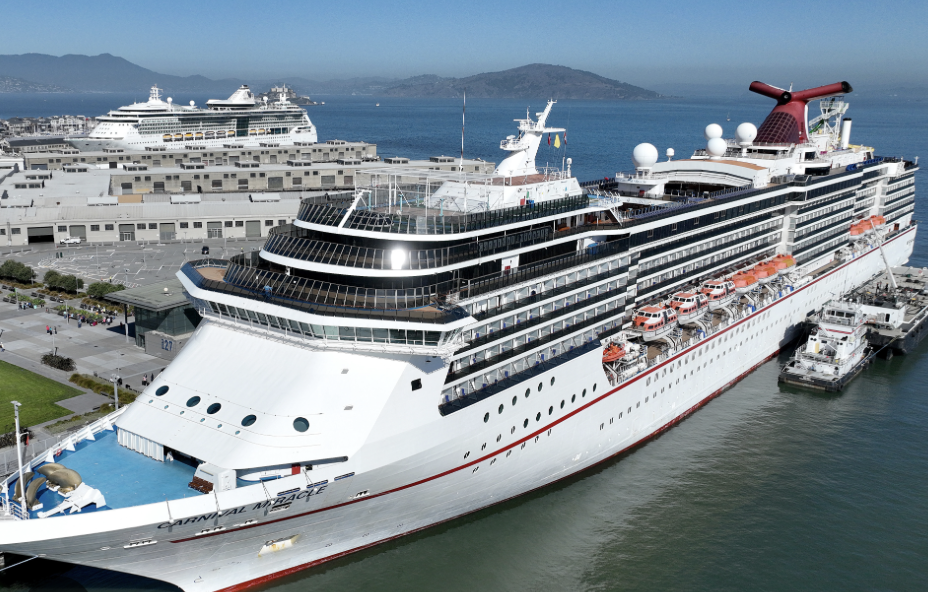ship: (6, 164, 906, 444), (63, 95, 326, 149)
